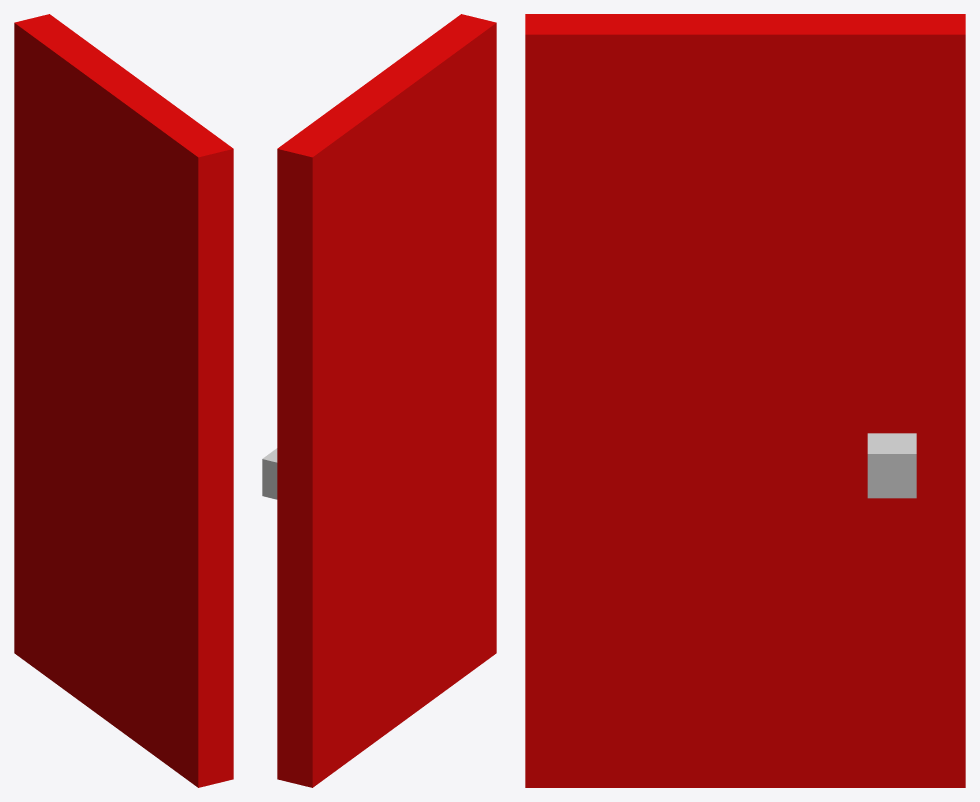
File: Bowling no details-4.obj
The picture shows the model from 3 angles, left to right: view 1: azimuth 30°, elevation 25°; view 2: azimuth 150°, elevation 25°; view 3: azimuth 270°, elevation 25°; orthographic projection. The views are drawn at different scales.
Parts seen in each view (by area): view 1: Bowling no details-4; view 2: Bowling no details-4; view 3: Bowling no details-4.
Part boxes in pixels (bbox=[...]): Bowling no details-4: bbox=[14, 14, 233, 787]; Bowling no details-4: bbox=[262, 14, 496, 787]; Bowling no details-4: bbox=[525, 14, 965, 787].
Size of the model in its own units: 2 by 17 by 9.
